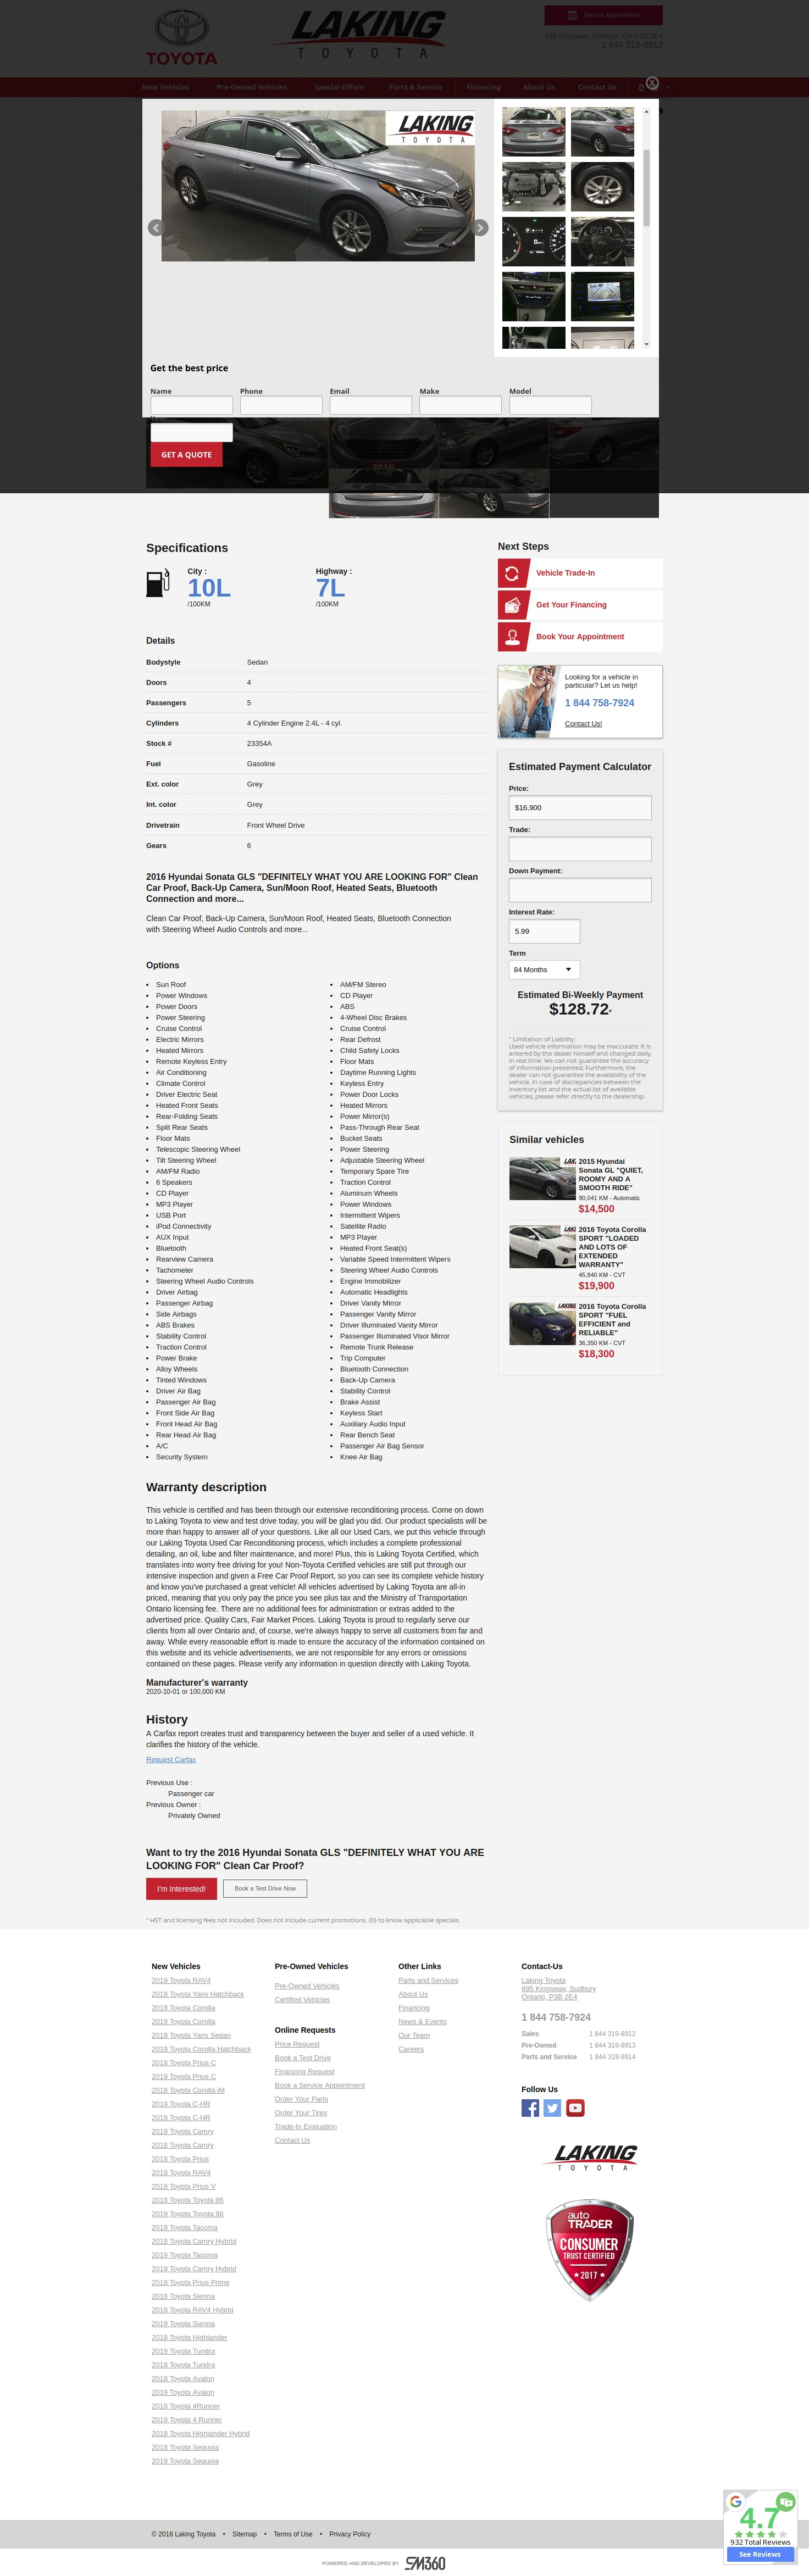car: (645, 343, 650, 347)
